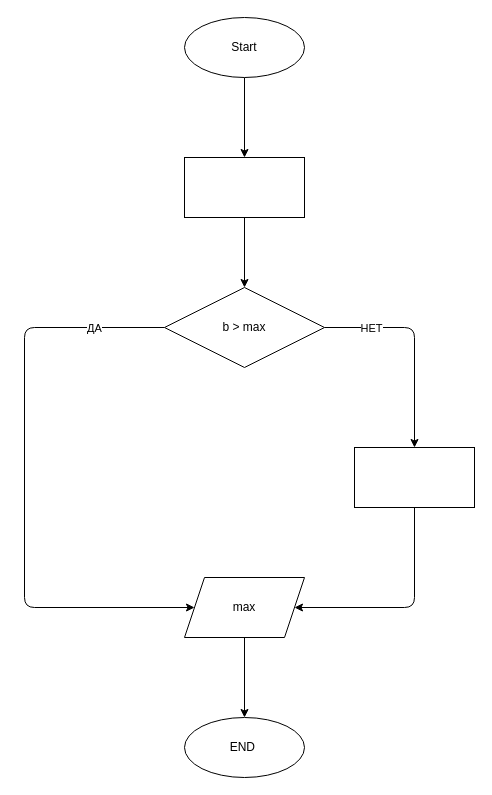
The diagram is 492 pixels wide and 795 high, and some of its shapes have lost their labels. The shapes that lost their labels are listed below. From the top down, each one's centre as x and y in pixels, then its label:
At [244,187]: "a= 5 b = 7 max = a".
At [414,477]: "max = a".
